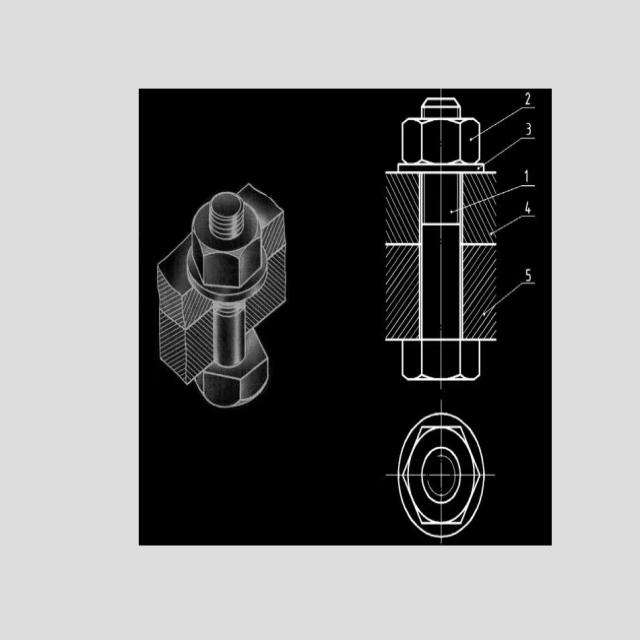numeric: (525, 267, 532, 282), (523, 169, 530, 183), (525, 201, 531, 215), (526, 92, 532, 106), (527, 120, 532, 136)
